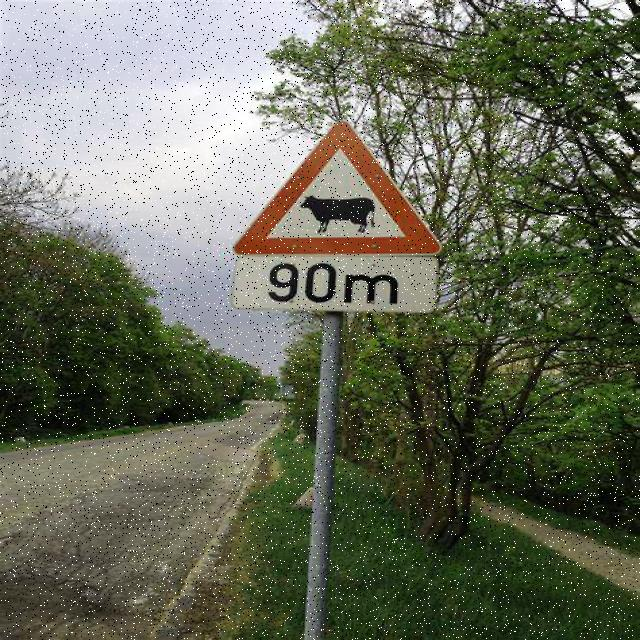cattle: (230, 118, 448, 259)
